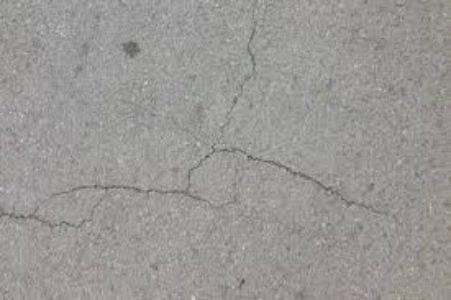crack: (0, 0, 403, 231), (200, 133, 414, 206), (239, 0, 272, 154), (29, 187, 38, 187)
